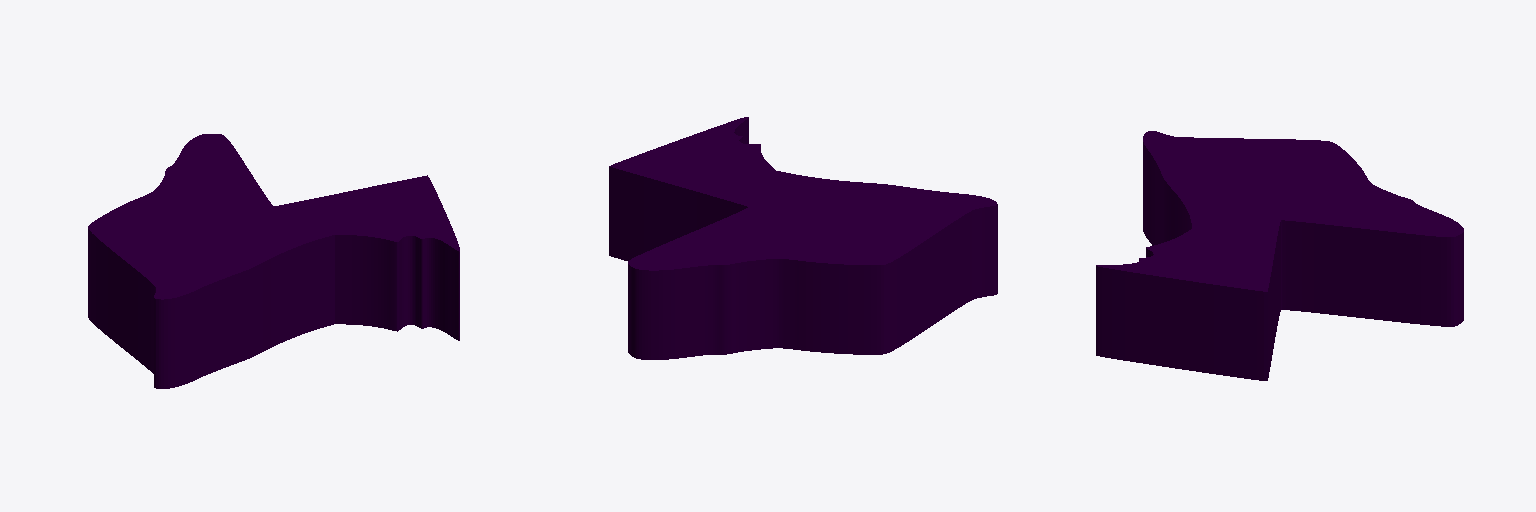
3 renders of one model, left to right at view 1: azimuth 30°, elevation 25°; view 2: azimuth 150°, elevation 25°; view 3: azimuth 270°, elevation 25°, orthographic.
Parts seen in each view (by area): view 1: Curve.047_path4288; view 2: Curve.047_path4288; view 3: Curve.047_path4288.
Part boxes in pixels (x1,y1,x2,y2): Curve.047_path4288: (88, 134, 459, 388); Curve.047_path4288: (609, 117, 997, 359); Curve.047_path4288: (1096, 131, 1463, 380).
Size of the model in its own units: 0.3864 by 0.1 by 0.3731.